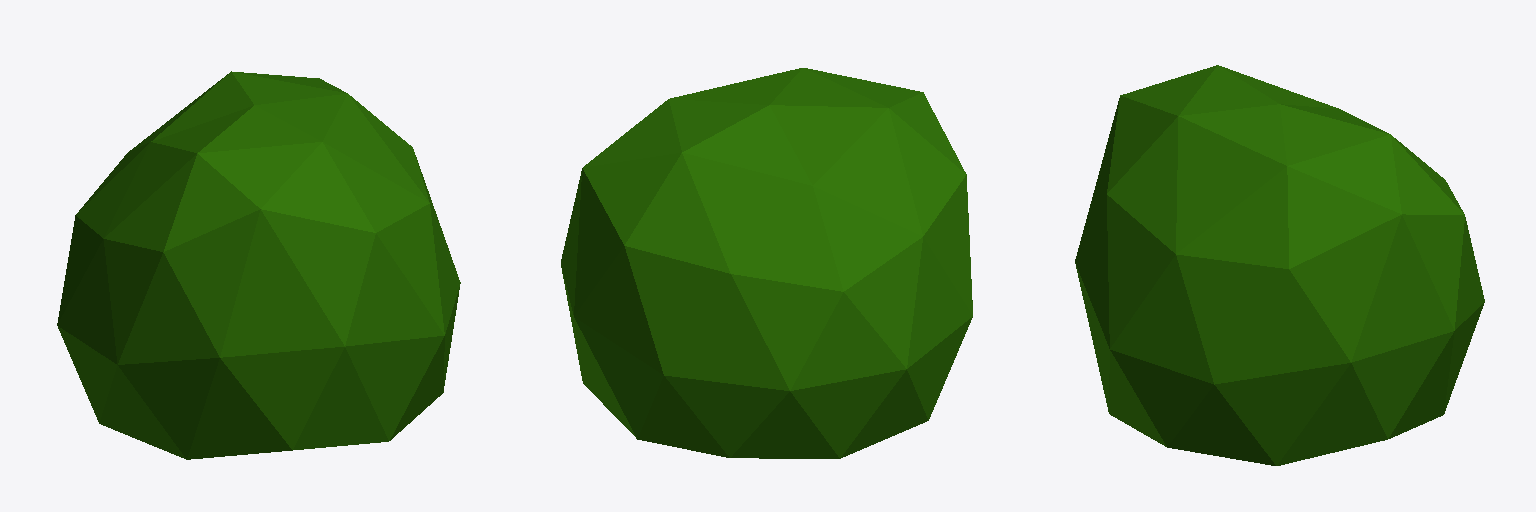
File: bush_s.obj
3 views of the same model, side by side, from view 1: azimuth 30°, elevation 25°; view 2: azimuth 150°, elevation 25°; view 3: azimuth 270°, elevation 25° (orthographic).
Visible parts, largest first — view 1: Bush2_Icosphere.084; view 2: Bush2_Icosphere.084; view 3: Bush2_Icosphere.084.
Part boxes in pixels (x1,y1,x2,y2): Bush2_Icosphere.084: (57,71,460,459); Bush2_Icosphere.084: (561,68,972,458); Bush2_Icosphere.084: (1075,65,1484,465).
Size of the model in its own units: 2.08 by 1.75 by 2.15.